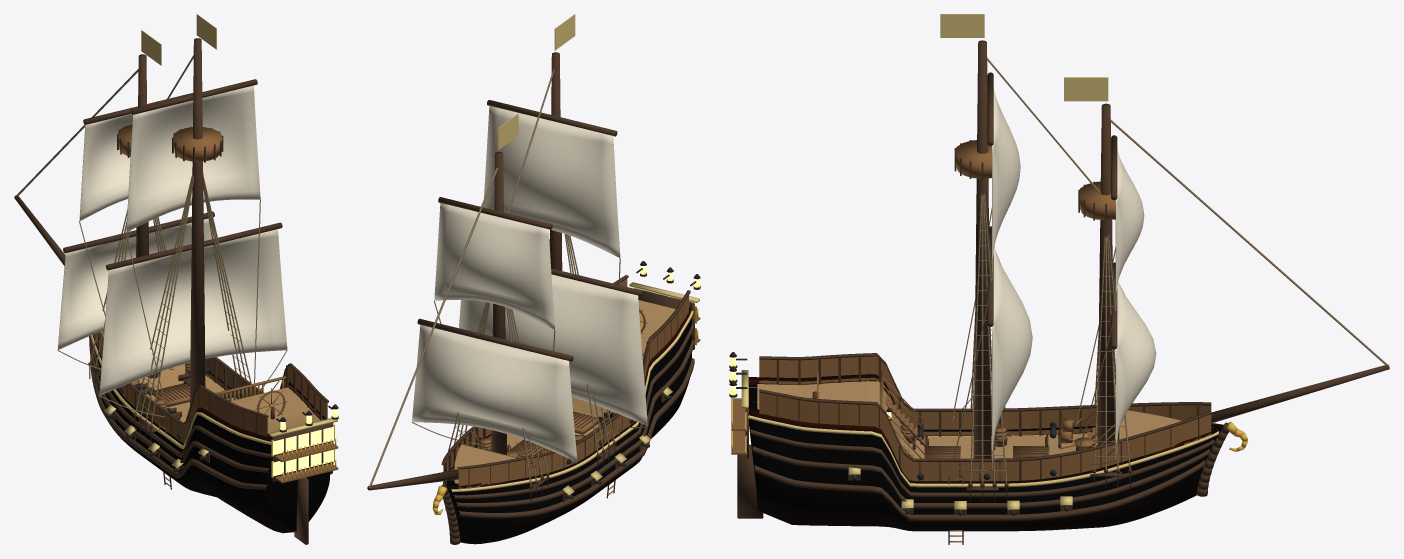
The model's file is bergantim.glb.
The picture shows the model from 3 angles, left to right: view 1: azimuth 30°, elevation 25°; view 2: azimuth 150°, elevation 25°; view 3: azimuth 270°, elevation 25°; orthographic projection. The views are drawn at different scales.
Parts seen in each view (by area): view 1: Vela_Grande0, Vela_Grande1, Casco, Vela_Proa0, MastroGrande, Vela_Proa1, Conves, Borda_-1.0, Cinta_B, Cesto.001, Cinta2_B, Borda_1.0 (+23 smaller); view 2: Vela_Proa0, Vela_Grande1, Vela_Grande0, Vela_Proa1, Casco, Borda_-1.0, Cinta_B, Conves, Cinta2_B, Cinta3_B, MastroProa, MastroGrande (+12 smaller); view 3: Casco, Borda_1.0, Borda_-1.0, MastroGrande, Vela_Grande0, Conves, MastroProa, Vela_Proa0, Cinta_E, Vela_Grande1, Cinta3_E, Cinta2_E (+13 smaller).
Boxes of the visible parts, <box> form: Vela_Grande0: <box>99,229,287,395</box>; Vela_Grande1: <box>126,85,260,232</box>; Casco: <box>93,336,330,533</box>; Vela_Proa0: <box>57,218,211,349</box>; MastroGrande: <box>190,38,205,405</box>; Vela_Proa1: <box>79,114,132,221</box>; Conves: <box>138,364,320,433</box>; Borda_-1.0: <box>93,333,267,443</box>; Cinta_B: <box>90,356,267,489</box>; Cesto.001: <box>173,127,222,161</box>; Cinta2_B: <box>89,340,269,472</box>; Borda_1.0: <box>206,358,327,419</box>; Vela_Proa0: <box>412,325,577,462</box>; Vela_Grande1: <box>483,106,620,257</box>; Vela_Grande0: <box>459,274,647,426</box>; Vela_Proa1: <box>434,203,554,329</box>; Casco: <box>443,303,691,544</box>; Borda_-1.0: <box>458,295,688,489</box>; Cinta_B: <box>458,358,694,518</box>; Conves: <box>454,300,675,483</box>; Cinta2_B: <box>455,340,694,507</box>; Cinta3_B: <box>453,324,694,498</box>; MastroProa: <box>491,152,506,454</box>; MastroGrande: <box>549,52,562,270</box>; Casco: <box>748,374,1223,531</box>; Borda_1.0: <box>759,392,1211,481</box>; Borda_-1.0: <box>759,356,1211,435</box>; MastroGrande: <box>973,40,991,458</box>; Vela_Grande0: <box>992,246,1032,469</box>; Conves: <box>757,381,1117,458</box>; MastroProa: <box>1097,103,1114,445</box>; Vela_Proa0: <box>1115,280,1156,460</box>; Cinta_E: <box>754,460,1204,521</box>; Vela_Grande1: <box>992,88,1020,279</box>; Cinta3_E: <box>750,429,1214,497</box>; Cinta2_E: <box>752,446,1209,508</box>.
Size of the model in its own units: 12.13 by 28.1 by 32.92.
